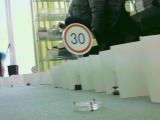speed_30: (60, 22, 93, 55)
